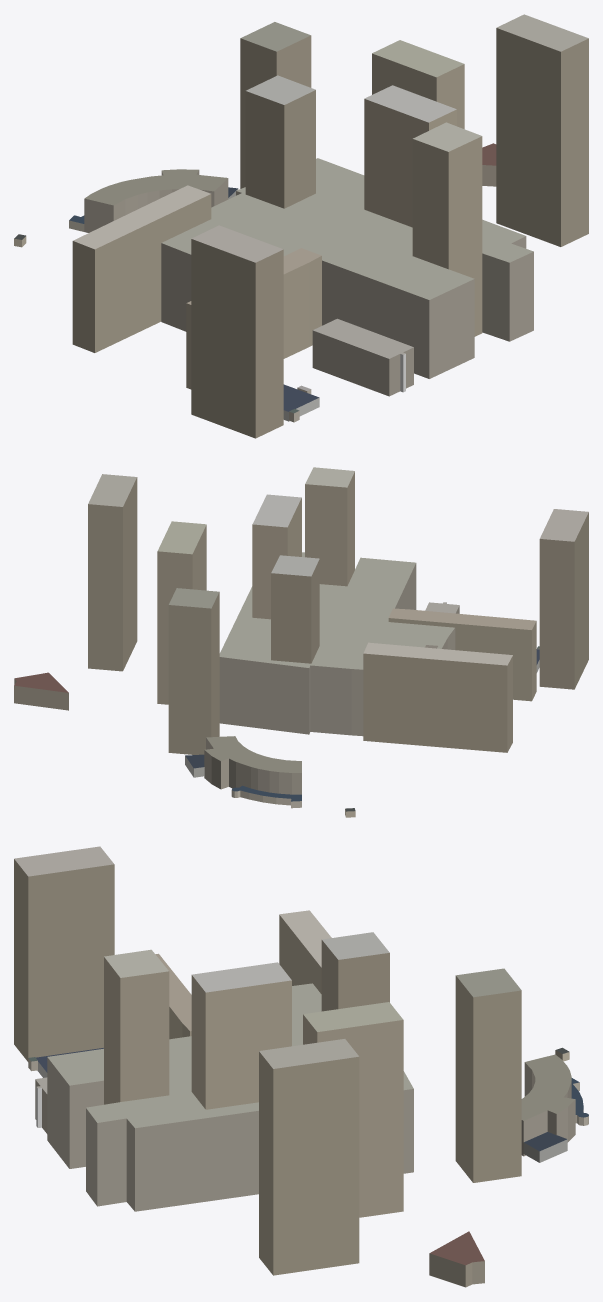
3 views of the same model, one above another, from view 1: azimuth 30°, elevation 25°; view 2: azimuth 150°, elevation 25°; view 3: azimuth 270°, elevation 25° (orthographic). The views are drawn at different scales.
Visible parts, largest first — view 1: tuile; view 2: tuile; view 3: tuile.
Part boxes in pixels (bbox=[...]): tuile: bbox=[14, 14, 588, 438]; tuile: bbox=[14, 467, 588, 817]; tuile: bbox=[14, 846, 588, 1287].
Size of the model in its own units: 284 by 106 by 261.
